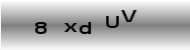8: (33, 20, 49, 36)
U: (105, 14, 121, 29)
V: (120, 9, 138, 23)
d: (78, 20, 93, 35)
x: (62, 21, 78, 34)
